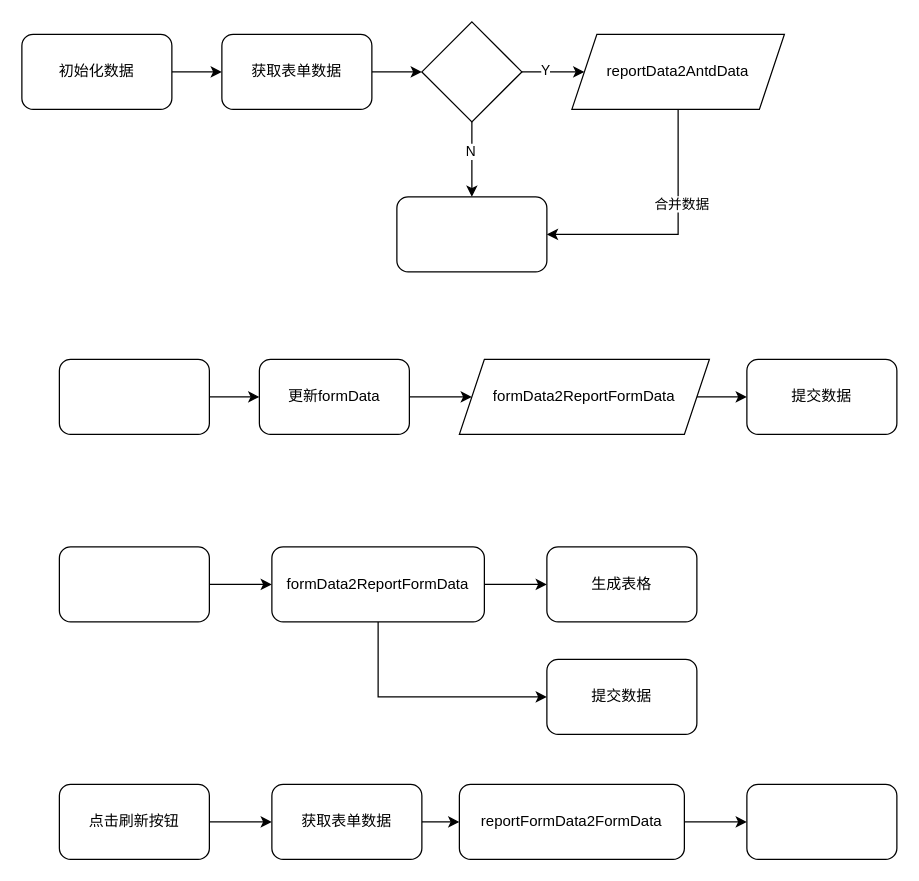
The diagram is 919 pixels wide and 881 high, and some of its shapes have lost their labels. The shapes that lost their labels are listed below. From the top down, each one's centre as x and y in pixels, then its label:
the point at 471,71: 是否有数据
the point at 471,234: formData
the point at 133,396: 点击保存数据
the point at 133,584: 点击上报记录
the point at 821,821: 合并初始值
